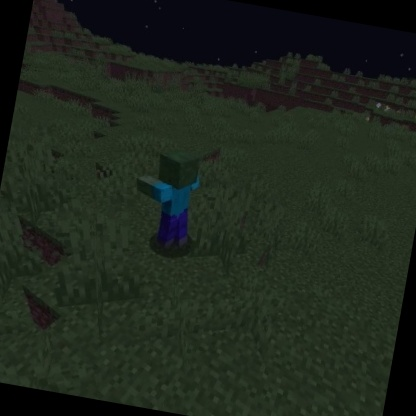zombie: (123, 141, 207, 257)
